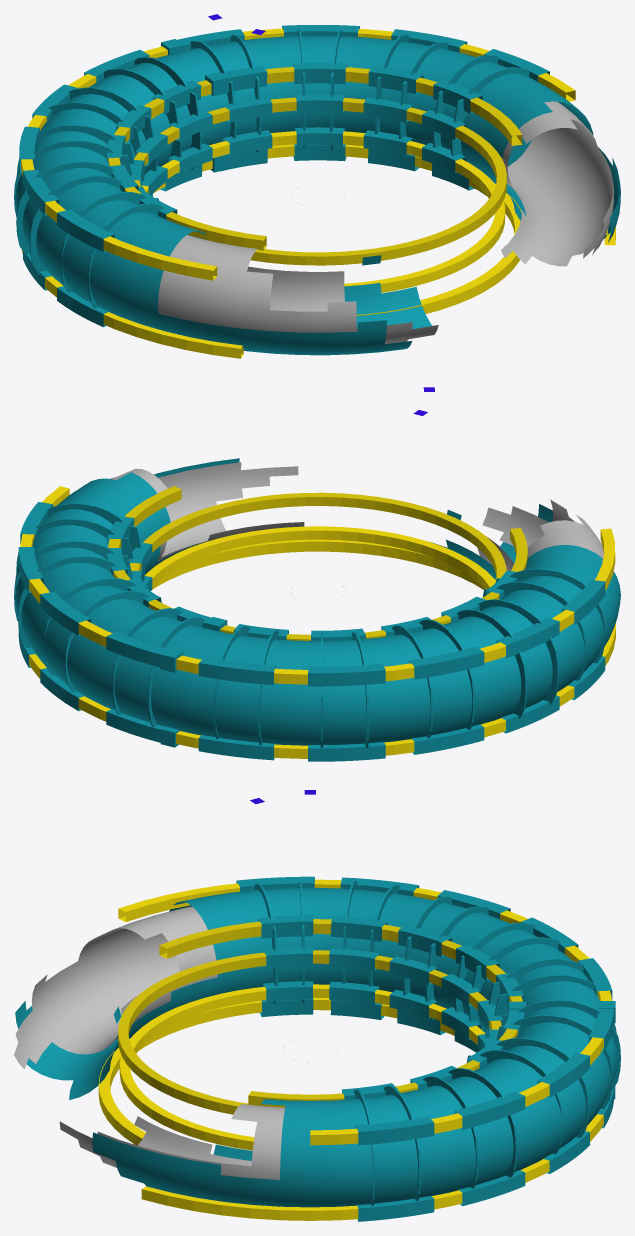
File: LHD.glb
3 renders of one model, top to bottom at view 1: azimuth 30°, elevation 25°; view 2: azimuth 150°, elevation 25°; view 3: azimuth 270°, elevation 25°, orthographic.
Visible parts, largest first — view 1: Circle_VacuumVesselOutside, Circle_VacuumVesselInside, Plane_PoloidalCoilUpIn.002, Plane.002, Plane_PoloidalCoilDownIn, Plane_PoloidalCoilUpOut, Plane_PoloidalCoilUpIn.001, Plane.003, Plane.001, Plane.004, Plane.007, Plane_PoloidalCoilDownIn.001 (+15 smaller); view 2: Circle_VacuumVesselOutside, Circle_VacuumVesselInside, Plane_PoloidalCoilUpIn.002, Plane_PoloidalCoilDownIn, Plane_PoloidalCoilUpOut, Plane_PoloidalCoilDownIn.001, Plane.008, Plane.007, Plane.009, Plane_PoloidalCoilDownOut, Plane_PoloidalCoilUpIn.001, Plane.006 (+15 smaller); view 3: Circle_VacuumVesselOutside, Circle_VacuumVesselInside, Plane_PoloidalCoilUpIn.002, Plane_PoloidalCoilDownIn, Plane_PoloidalCoilUpOut, Plane.005, Plane.006, Plane_PoloidalCoilDownOut, Plane_PoloidalCoilUpIn.001, Plane.009, Plane.004, Plane_PoloidalCoilDownIn.001 (+14 smaller).
Boxes of the visible parts, x1,y1,x2,y2 form: Circle_VacuumVesselOutside: [15, 35, 620, 355]; Circle_VacuumVesselInside: [158, 101, 614, 343]; Plane_PoloidalCoilUpIn.002: [134, 97, 506, 265]; Plane.002: [282, 25, 359, 161]; Plane_PoloidalCoilDownIn: [141, 131, 505, 292]; Plane_PoloidalCoilUpOut: [21, 28, 575, 280]; Plane_PoloidalCoilUpIn.001: [108, 67, 522, 250]; Plane.003: [363, 29, 467, 171]; Plane.001: [176, 29, 272, 171]; Plane.004: [422, 49, 549, 190]; Plane.007: [84, 50, 212, 191]; Plane_PoloidalCoilDownIn.001: [153, 144, 521, 315]; Circle_VacuumVesselOutside: [15, 458, 620, 745]; Circle_VacuumVesselInside: [110, 462, 603, 570]; Plane_PoloidalCoilUpIn.002: [130, 492, 506, 582]; Plane_PoloidalCoilDownIn: [144, 526, 495, 588]; Plane_PoloidalCoilUpOut: [20, 486, 615, 684]; Plane_PoloidalCoilDownIn.001: [152, 539, 495, 589]; Plane.008: [308, 628, 385, 761]; Plane.007: [198, 624, 288, 760]; Plane.009: [381, 617, 484, 754]; Plane_PoloidalCoilDownOut: [29, 579, 615, 758]; Plane_PoloidalCoilUpIn.001: [108, 486, 527, 640]; Plane.006: [441, 596, 559, 733]; Circle_VacuumVesselOutside: [15, 887, 617, 1207]; Circle_VacuumVesselInside: [14, 906, 284, 1179]; Plane_PoloidalCoilUpIn.002: [118, 950, 501, 1114]; Plane_PoloidalCoilDownIn: [119, 984, 485, 1150]; Plane_PoloidalCoilUpOut: [118, 879, 611, 1145]; Plane.005: [236, 876, 314, 1016]; Plane.006: [329, 877, 419, 1019]; Plane_PoloidalCoilDownOut: [141, 1045, 603, 1220]; Plane_PoloidalCoilUpIn.001: [159, 919, 522, 1107]; Plane.009: [389, 890, 510, 1035]; Plane.004: [342, 1083, 434, 1221]; Plane_PoloidalCoilDownIn.001: [98, 997, 454, 1145].
Size of the model in its own units: 11.04 by 5.22 by 10.83.
